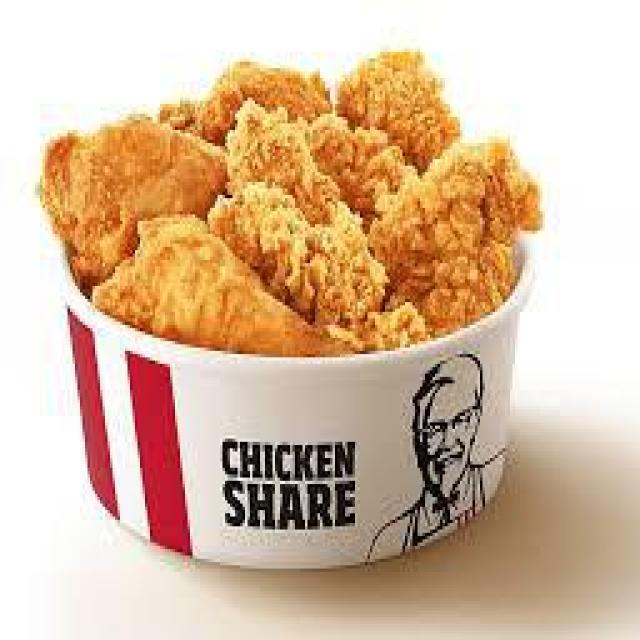Chicken -Fried Chicken-: (38, 110, 228, 282)
